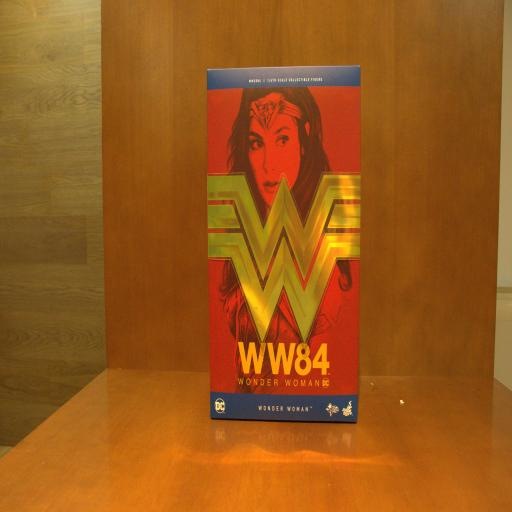WonderWoman: (205, 63, 364, 425)
